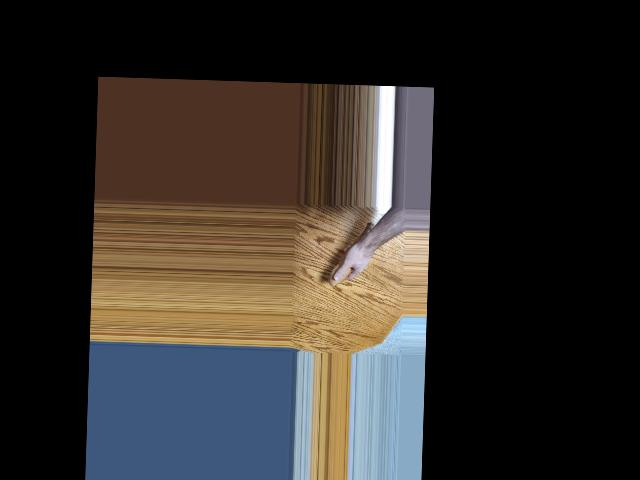sweet_potato: (329, 219, 375, 288)
